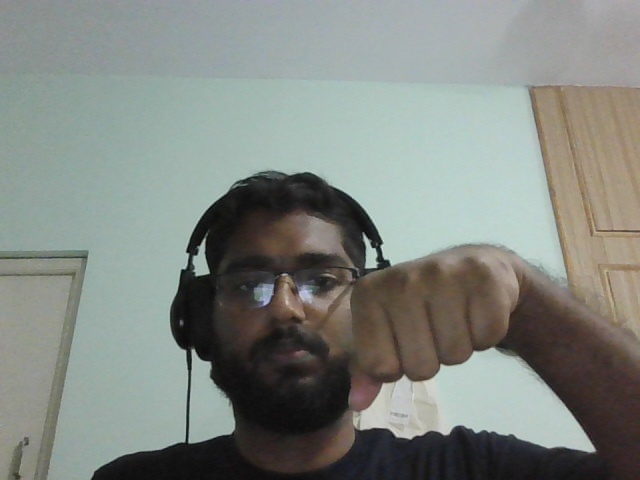Yes: (339, 252, 536, 422)
